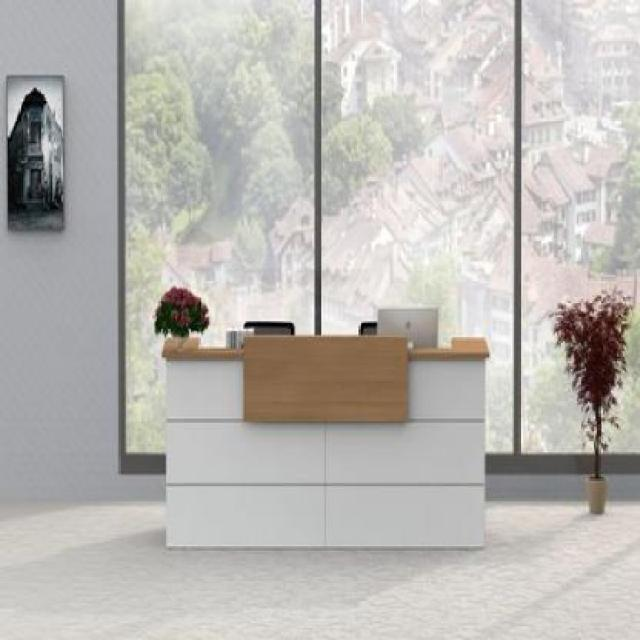frontdesk: (151, 303, 498, 563)
